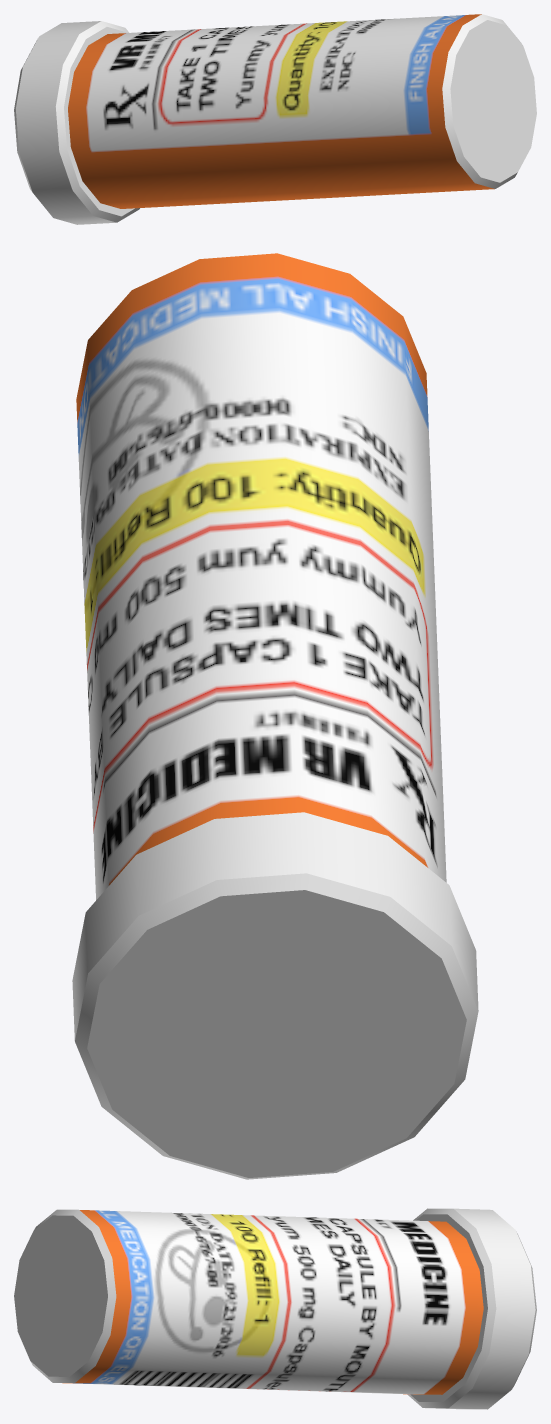
Rendered from Final_Item_Pill Bottle 2_ver1.fbx.
3 renders of one model, top to bottom at view 1: azimuth 30°, elevation 25°; view 2: azimuth 150°, elevation 25°; view 3: azimuth 270°, elevation 25°, orthographic. The views are drawn at different scales.
Visible parts, largest first — view 1: Pill Bottle V2; view 2: Pill Bottle V2; view 3: Pill Bottle V2.
Part boxes in pixels (x1,y1,x2,y2): Pill Bottle V2: [14, 14, 536, 224]; Pill Bottle V2: [72, 253, 478, 1179]; Pill Bottle V2: [14, 1208, 536, 1409].
Size of the model in its own units: 141 by 106 by 177.
1 material, 1 textured.
